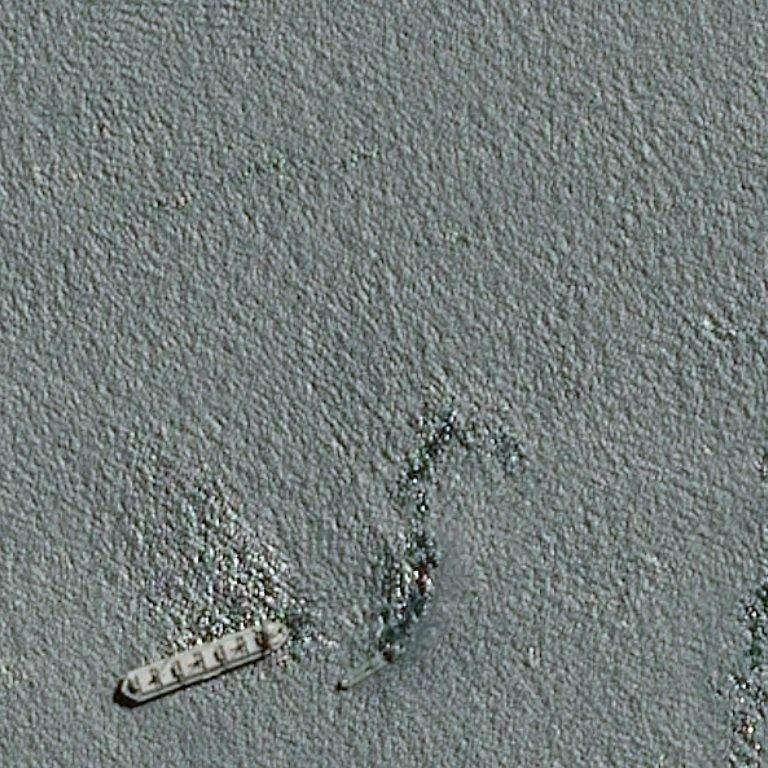ship: (115, 616, 294, 708), (337, 664, 401, 672)
